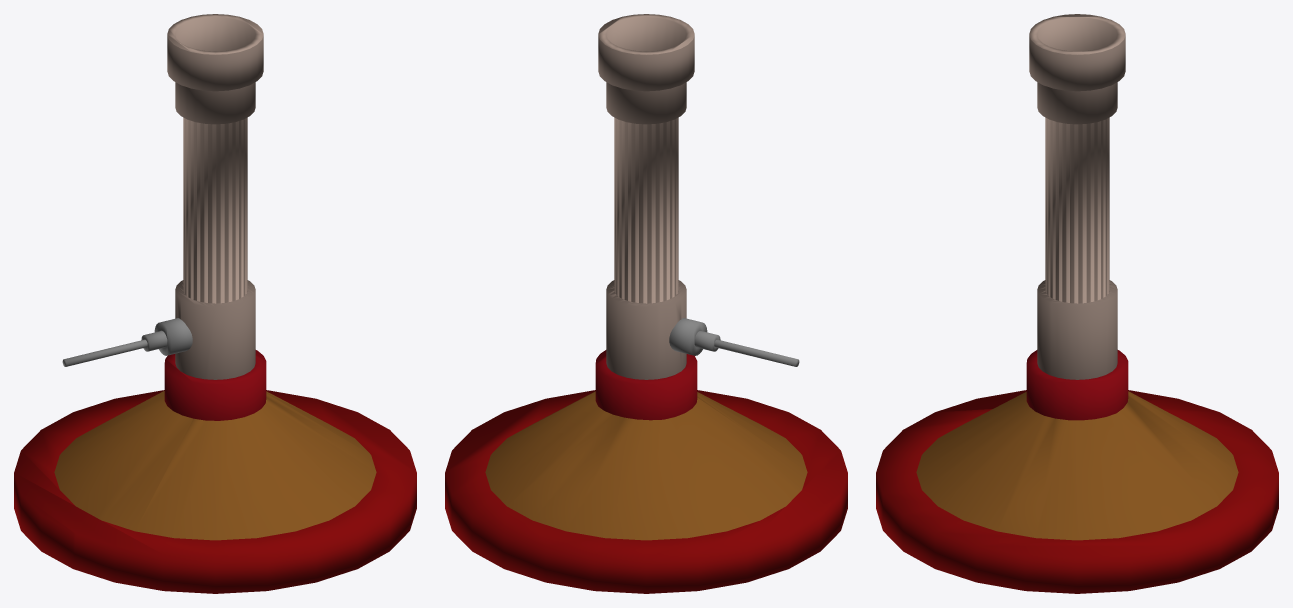
The picture shows the model from 3 angles, left to right: view 1: azimuth 30°, elevation 25°; view 2: azimuth 150°, elevation 25°; view 3: azimuth 270°, elevation 25°; orthographic projection.
Parts seen in each view (by area): view 1: root; view 2: root; view 3: root.
Part boxes in pixels (bbox=[...]): root: bbox=[14, 14, 416, 593]; root: bbox=[445, 14, 847, 593]; root: bbox=[876, 14, 1278, 593].
Bounding box in the file's own units: 50 × 65 × 50.
